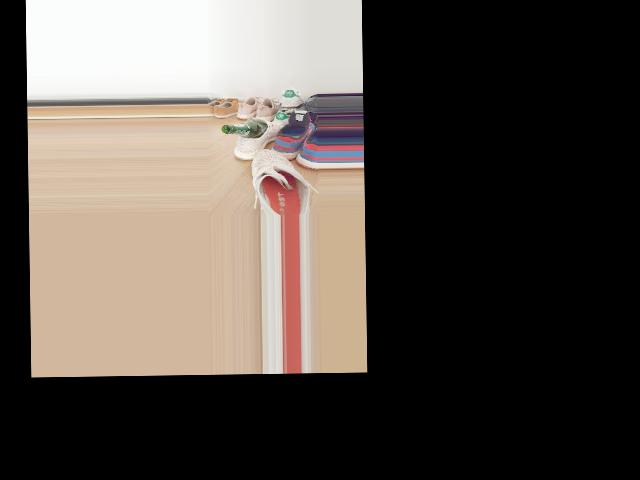beer: (221, 121, 267, 138)
